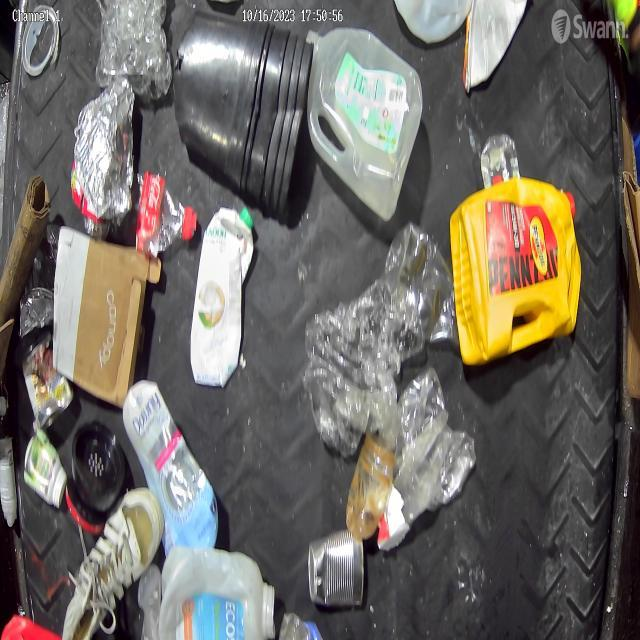can: (21, 330, 74, 432), (16, 222, 62, 339), (308, 528, 364, 606)
milk_jug: (306, 27, 426, 224)
non_white_jug: (448, 175, 582, 368), (158, 543, 276, 640)
plastic_bottle: (133, 172, 198, 258)
